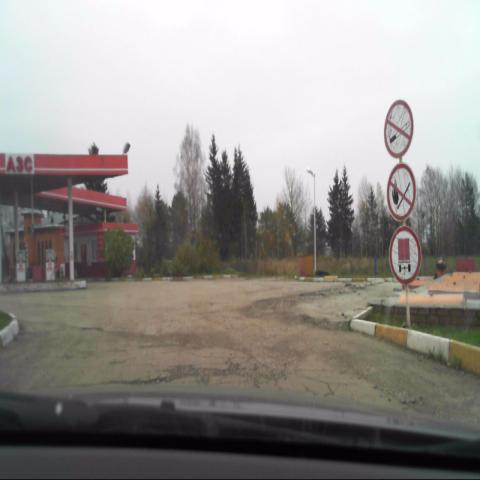3_32: (390, 225, 422, 286)
